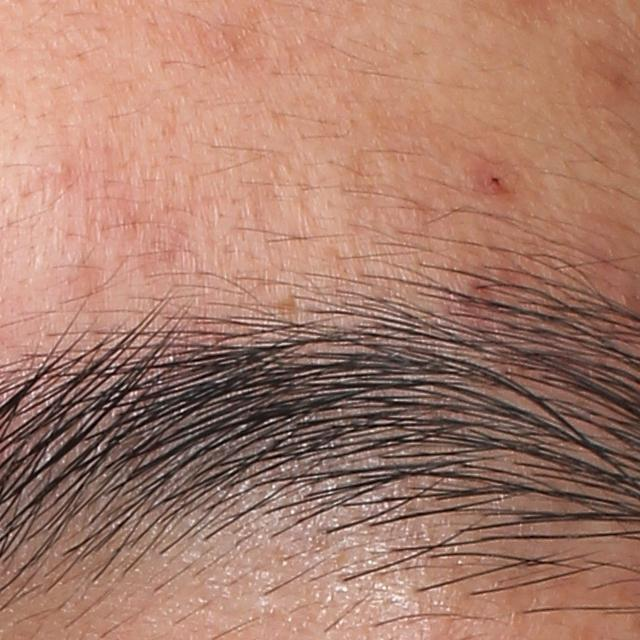comedo: (46, 156, 73, 177)
papule: (480, 162, 516, 200)
